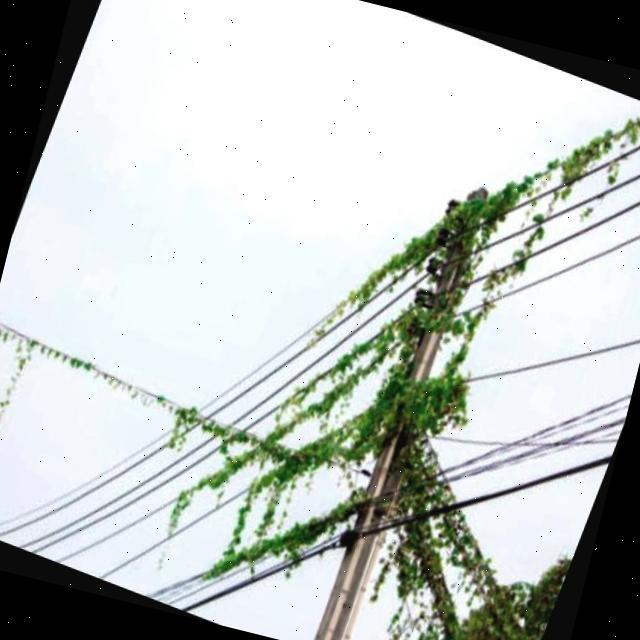critical vegetation: (262, 164, 535, 640)
